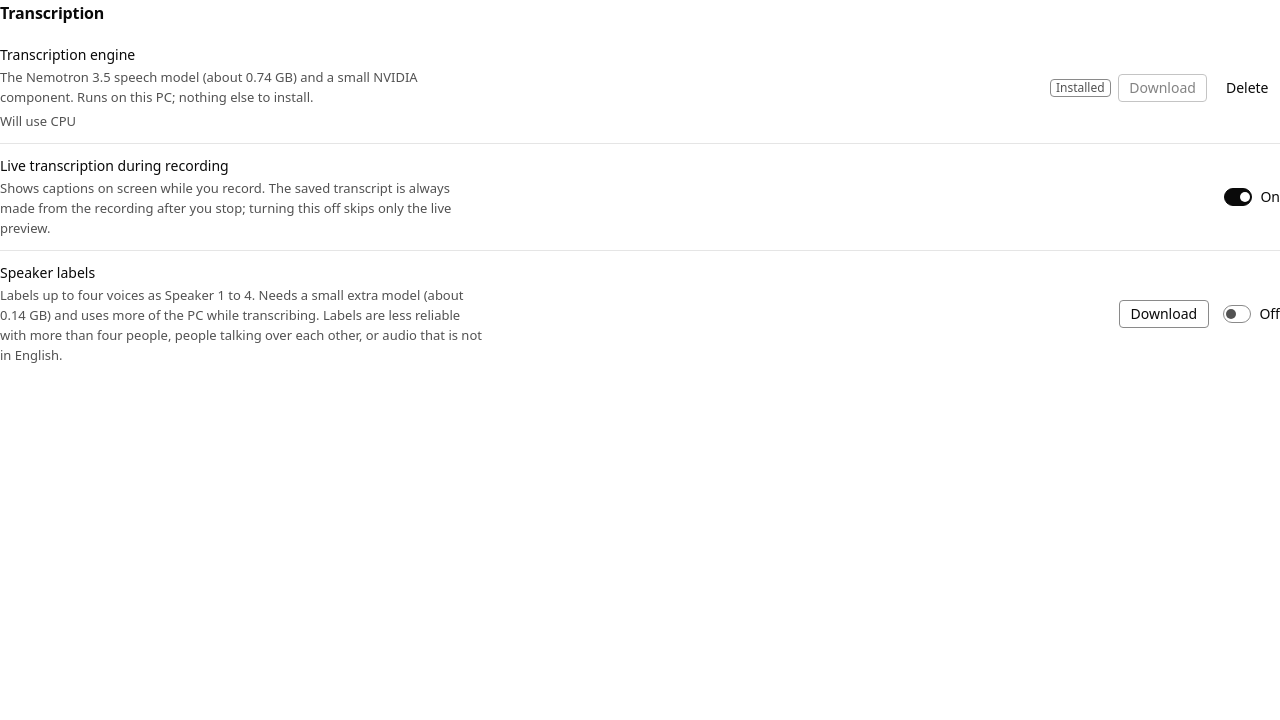
Test: TranscriptionSection engine › explains a delete that ends as RuntimeInUse
Click the button "Delete" at (1247, 88), box [1214, 74, 1279, 102]
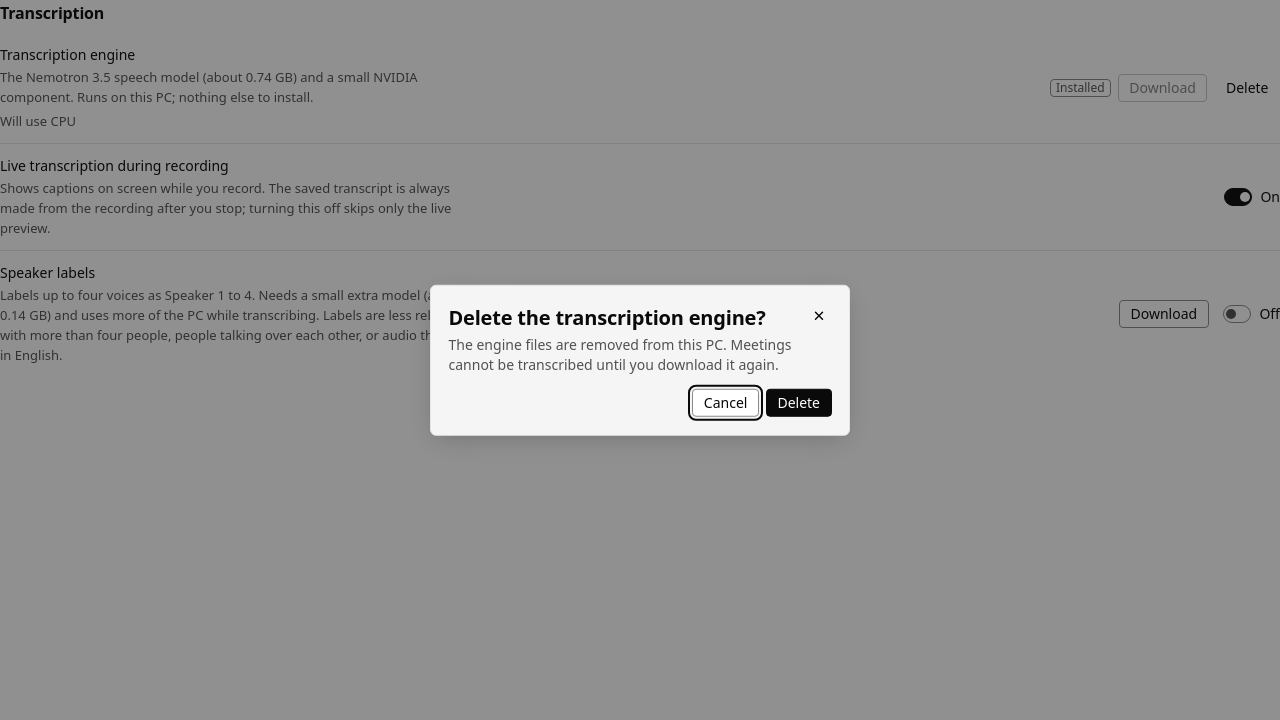
Click the button "Delete" at (799, 403), box [766, 389, 832, 417]
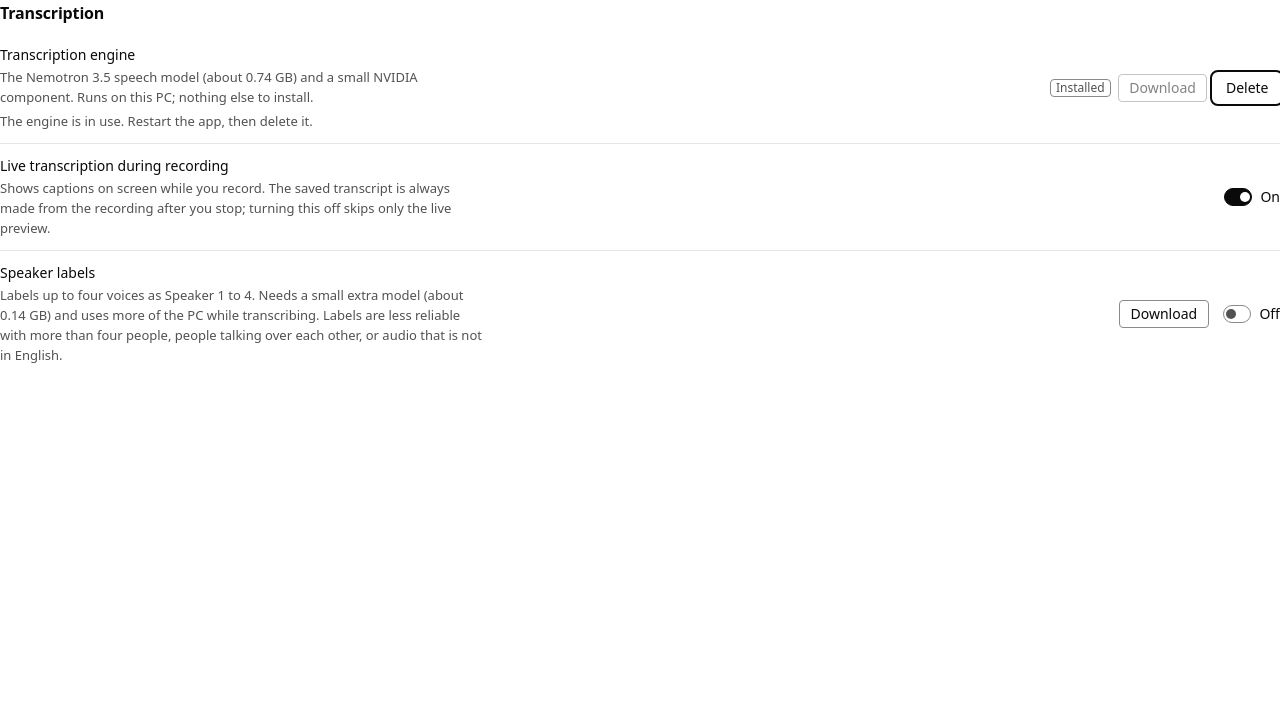
Check: the text with test id "acceleration-caption" reads "The engine is in use. Restart the app, then delete it.", box [0, 112, 313, 130]
